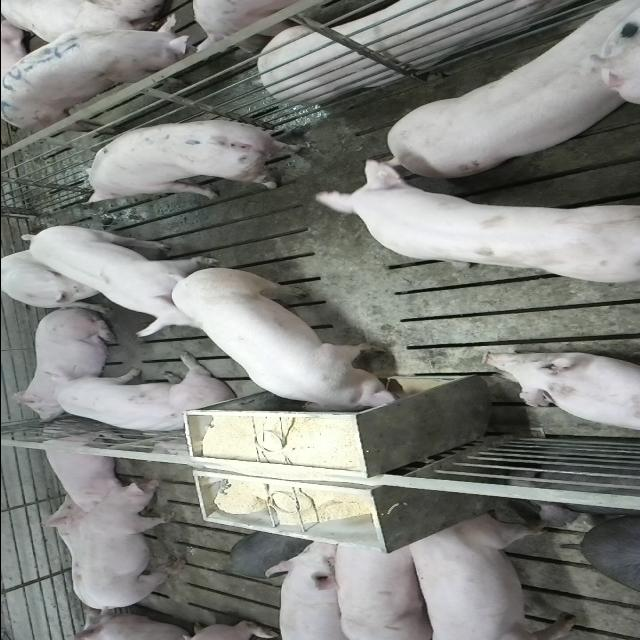Feeding: (169, 270, 404, 422)
Sitting: (53, 359, 234, 437)
Standing: (378, 5, 635, 182), (312, 163, 638, 289), (0, 18, 204, 131), (23, 227, 222, 341), (400, 512, 580, 638), (80, 118, 312, 205), (80, 478, 190, 612), (328, 533, 433, 637), (263, 536, 363, 640)
Sternal_lying: (240, 0, 594, 100), (482, 350, 640, 433), (20, 310, 118, 426), (34, 428, 132, 508)
